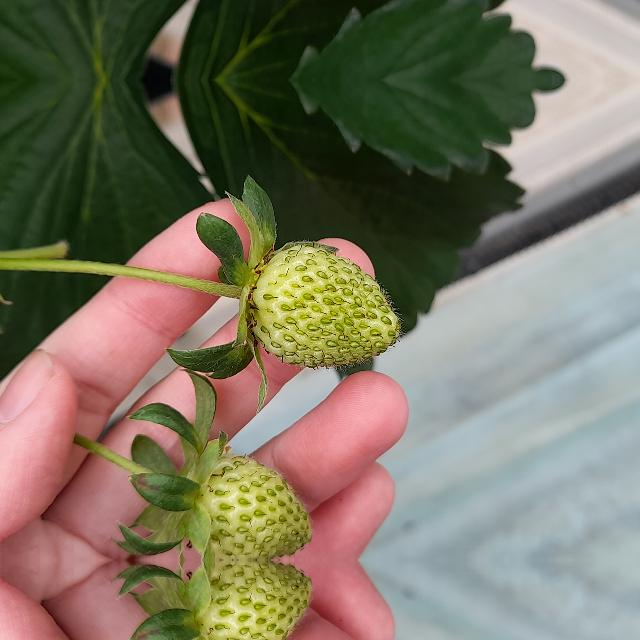Health_25: (251, 245, 401, 368)
